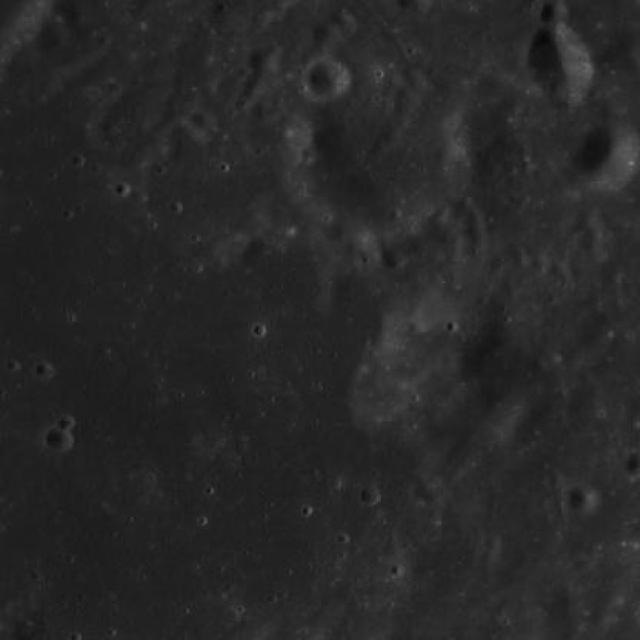crater: (306, 76, 468, 235), (460, 326, 540, 402), (329, 266, 406, 340), (521, 24, 594, 96), (94, 100, 168, 171), (575, 122, 640, 186), (244, 102, 308, 166), (242, 236, 288, 282), (544, 579, 586, 621), (164, 126, 207, 166), (306, 58, 348, 98), (306, 16, 342, 50), (564, 482, 596, 515), (248, 49, 277, 77), (577, 326, 606, 354), (36, 22, 64, 50), (45, 426, 73, 452), (250, 100, 276, 126), (541, 0, 567, 25), (588, 602, 614, 627), (190, 110, 216, 132), (618, 53, 640, 79), (574, 207, 598, 230), (381, 248, 404, 270), (580, 230, 602, 252), (420, 486, 442, 508), (464, 223, 486, 244), (243, 74, 263, 94), (464, 208, 484, 228), (360, 488, 380, 506), (572, 555, 590, 574), (332, 8, 350, 26), (407, 320, 425, 337), (396, 85, 412, 102), (236, 95, 252, 111), (546, 471, 562, 486), (149, 162, 166, 176), (58, 416, 74, 430)
